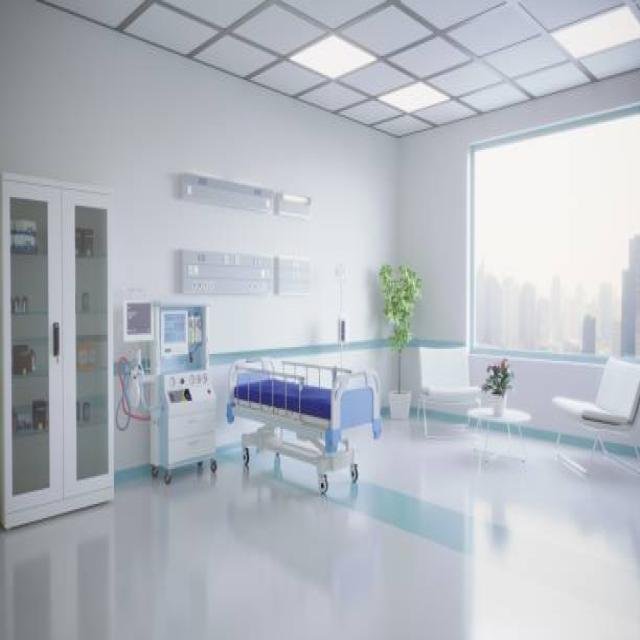Monitor: (158, 291, 206, 365), (118, 295, 156, 343)
bed: (227, 356, 382, 494)
sofa: (542, 346, 640, 494), (416, 343, 482, 438)
